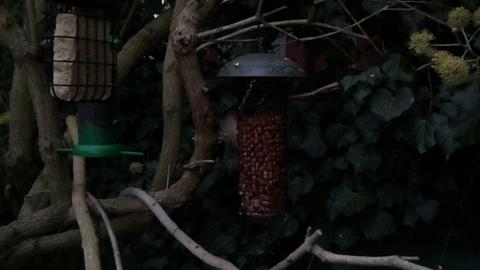mouse: (218, 109, 239, 150)
